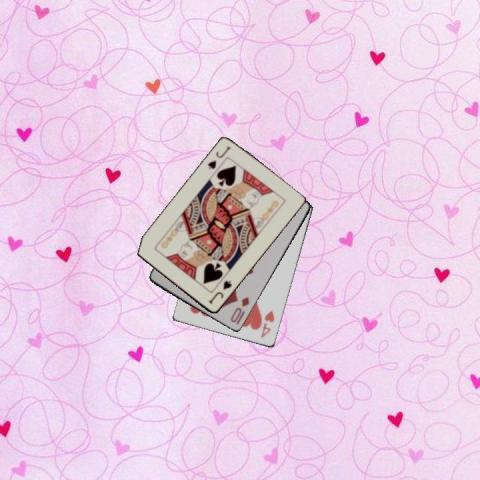10d: (227, 294, 251, 324)
4h: (258, 308, 276, 340)
Js: (206, 277, 234, 306), (205, 143, 232, 171)
